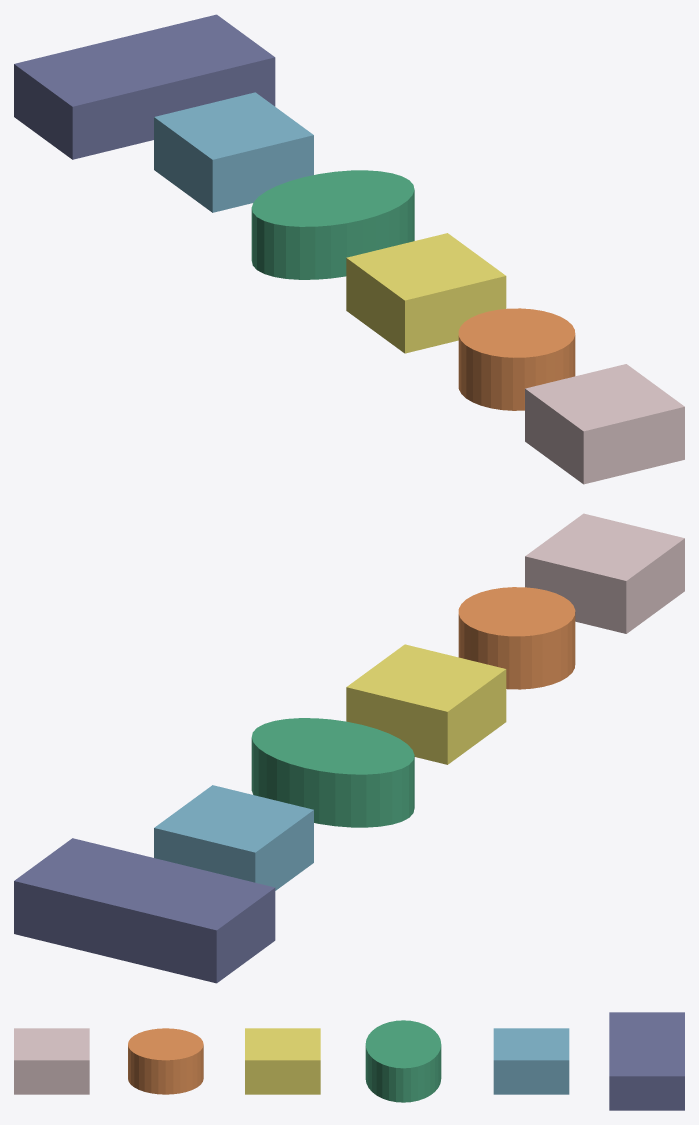
The model's file is map001.fbx.
The picture shows the model from 3 angles, top to bottom: view 1: azimuth 30°, elevation 25°; view 2: azimuth 150°, elevation 25°; view 3: azimuth 270°, elevation 25°; orthographic projection. The views are drawn at different scales.
Parts seen in each view (by area): view 1: 6, 4, 1, 5, 3, 2; view 2: 6, 4, 3, 1, 5, 2; view 3: 6, 4, 5, 1, 3, 2.
Boxes of the visible parts, <box> form: 6: <box>14,14,275,159</box>; 4: <box>251,170,414,279</box>; 1: <box>525,364,684,484</box>; 5: <box>154,92,313,212</box>; 3: <box>346,233,506,353</box>; 2: <box>458,308,575,410</box>; 6: <box>14,838,275,983</box>; 4: <box>251,718,414,827</box>; 3: <box>346,644,506,764</box>; 1: <box>525,513,684,633</box>; 5: <box>154,785,313,890</box>; 2: <box>458,587,575,689</box>; 6: <box>609,1012,684,1110</box>; 4: <box>365,1020,441,1102</box>; 5: <box>493,1028,569,1094</box>; 1: <box>14,1028,89,1094</box>; 3: <box>245,1028,320,1094</box>; 2: <box>128,1028,203,1094</box>.
Size of the model in its own units: 400 by 100 by 1773.
